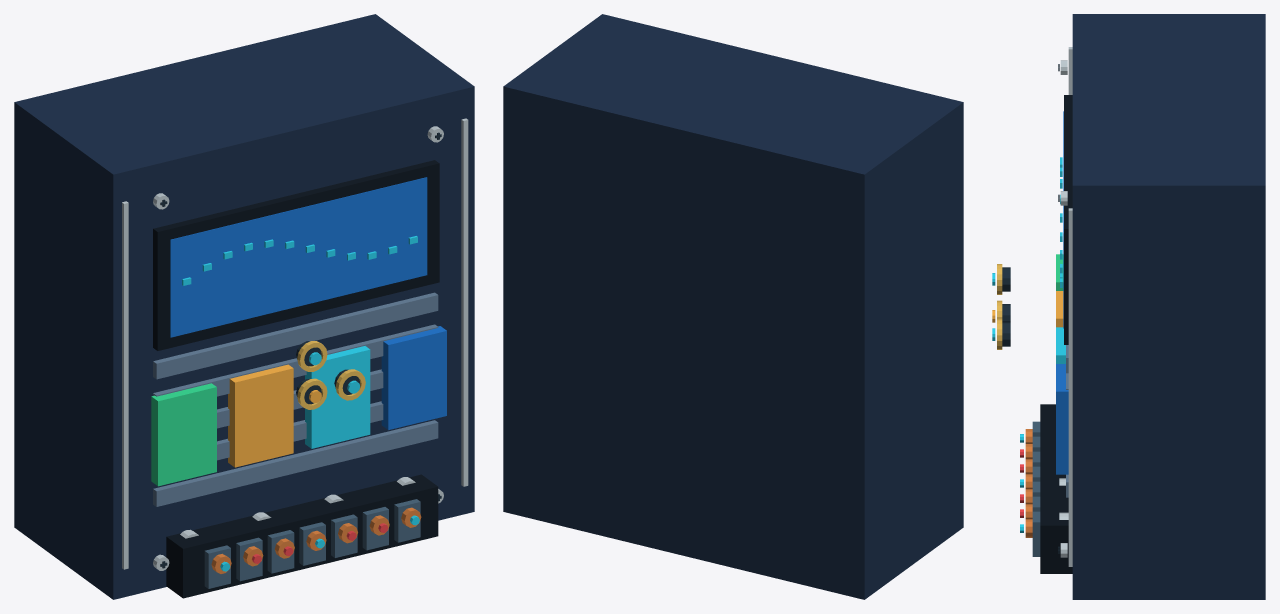
The model's file is 49_L83_PowerDistributionUnit.fbx.
The picture shows the model from 3 angles, left to right: view 1: azimuth 30°, elevation 25°; view 2: azimuth 150°, elevation 25°; view 3: azimuth 270°, elevation 25°; orthographic projection. The views are drawn at different scales.
Visible parts, largest first — view 1: PowerDistributionUnit; view 2: PowerDistributionUnit; view 3: PowerDistributionUnit.
Boxes of the visible parts, x1,y1,x2,y2 form: PowerDistributionUnit: [14, 14, 474, 599]; PowerDistributionUnit: [503, 14, 963, 599]; PowerDistributionUnit: [992, 14, 1265, 599].
Bounding box in the file's own units: 160 × 180 × 108.
